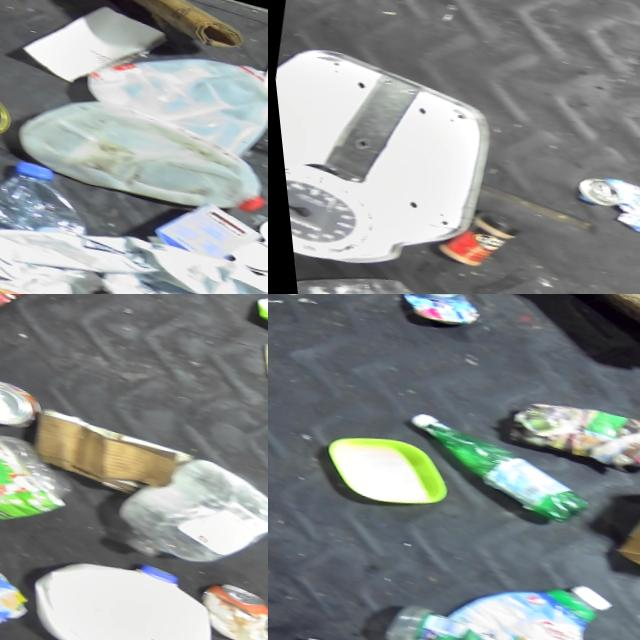can: (551, 157, 640, 248), (180, 572, 268, 640), (390, 294, 479, 331)
milk_jug: (8, 79, 268, 222), (75, 11, 268, 159), (10, 531, 217, 640)
plastic_bottle: (392, 393, 601, 535), (0, 146, 90, 265), (282, 246, 445, 294)
